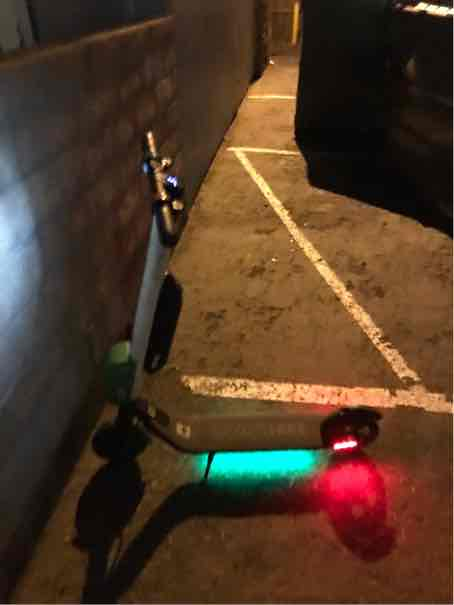scooter: (77, 124, 397, 488)
